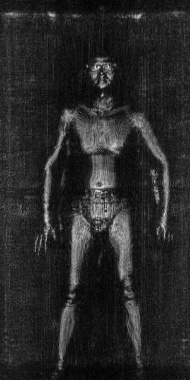gun: (145, 167, 163, 209)
